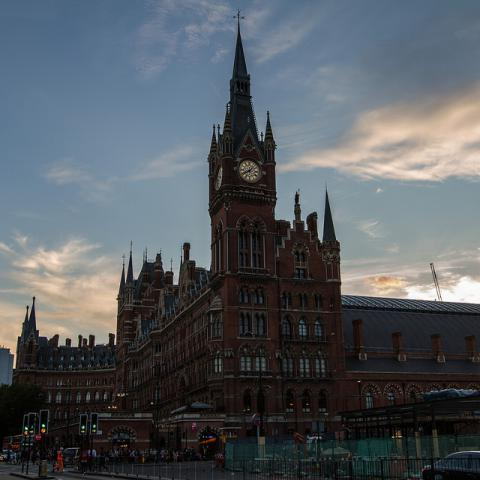car: (421, 451, 479, 479), (62, 448, 80, 468), (2, 450, 13, 462)
